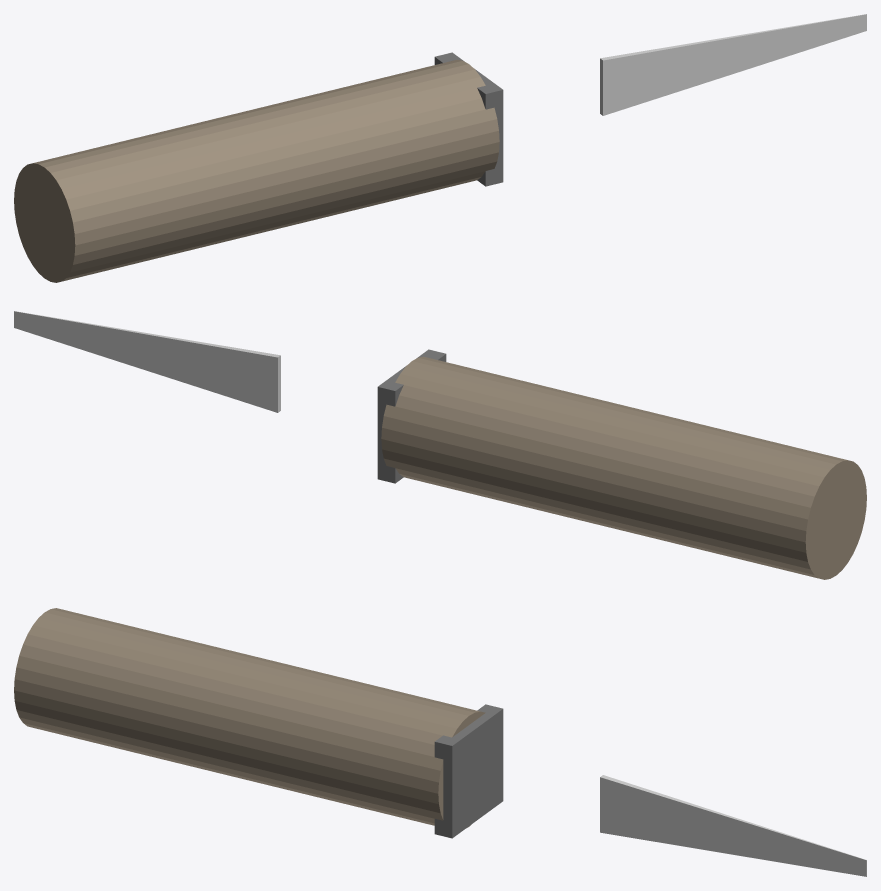
The model's file is knife.glb.
3 views of the same model, one above another, from view 1: azimuth 30°, elevation 25°; view 2: azimuth 150°, elevation 25°; view 3: azimuth 330°, elevation 25° (orthographic).
Parts seen in each view (by area): view 1: Knife; view 2: Knife; view 3: Knife.
Part boxes in pixels (bbox=[...]): Knife: bbox=[14, 14, 866, 282]; Knife: bbox=[14, 311, 866, 579]; Knife: bbox=[14, 608, 866, 876].
Size of the model in its own units: 0.2325 by 0.03 by 0.03.
